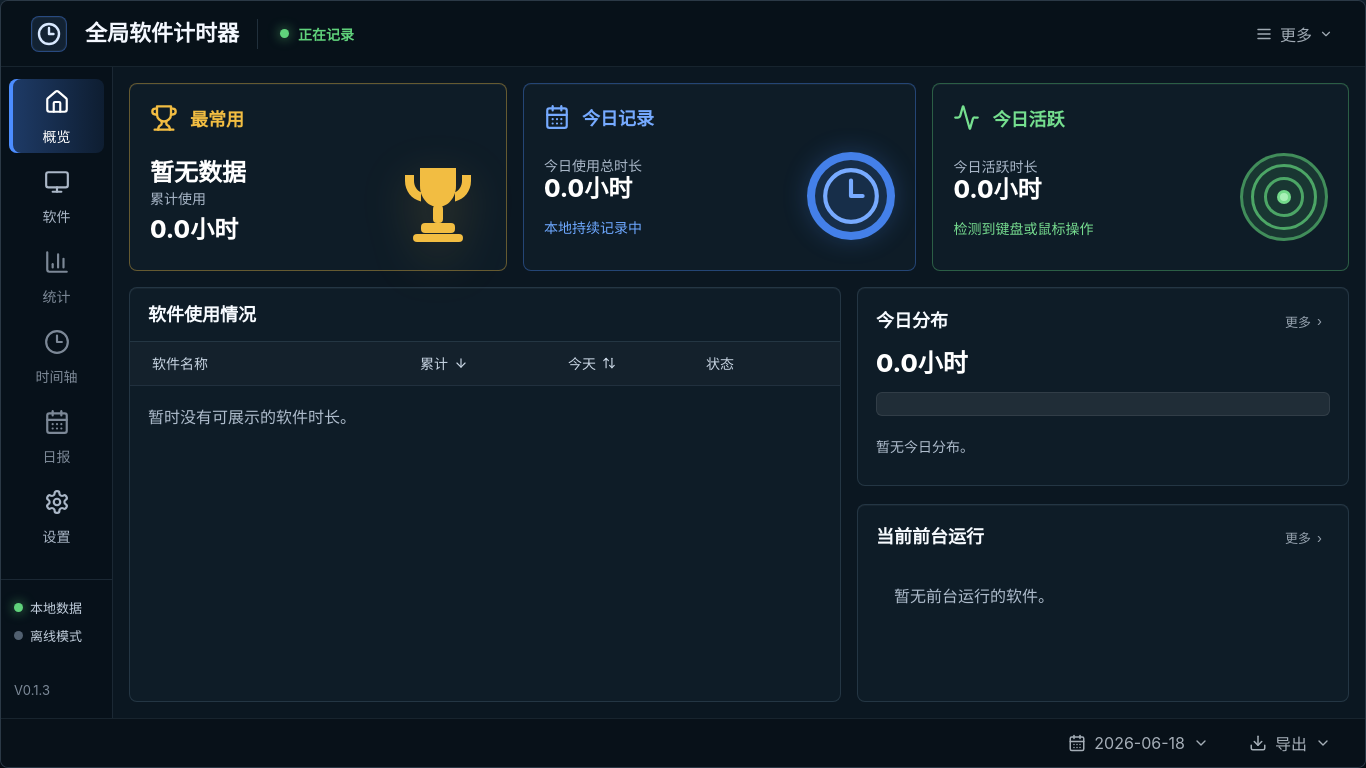
Test: App › shows list-load warning when remove succeeds but refresh fails
Click the button "软件" at (56, 196), box [9, 159, 104, 233]
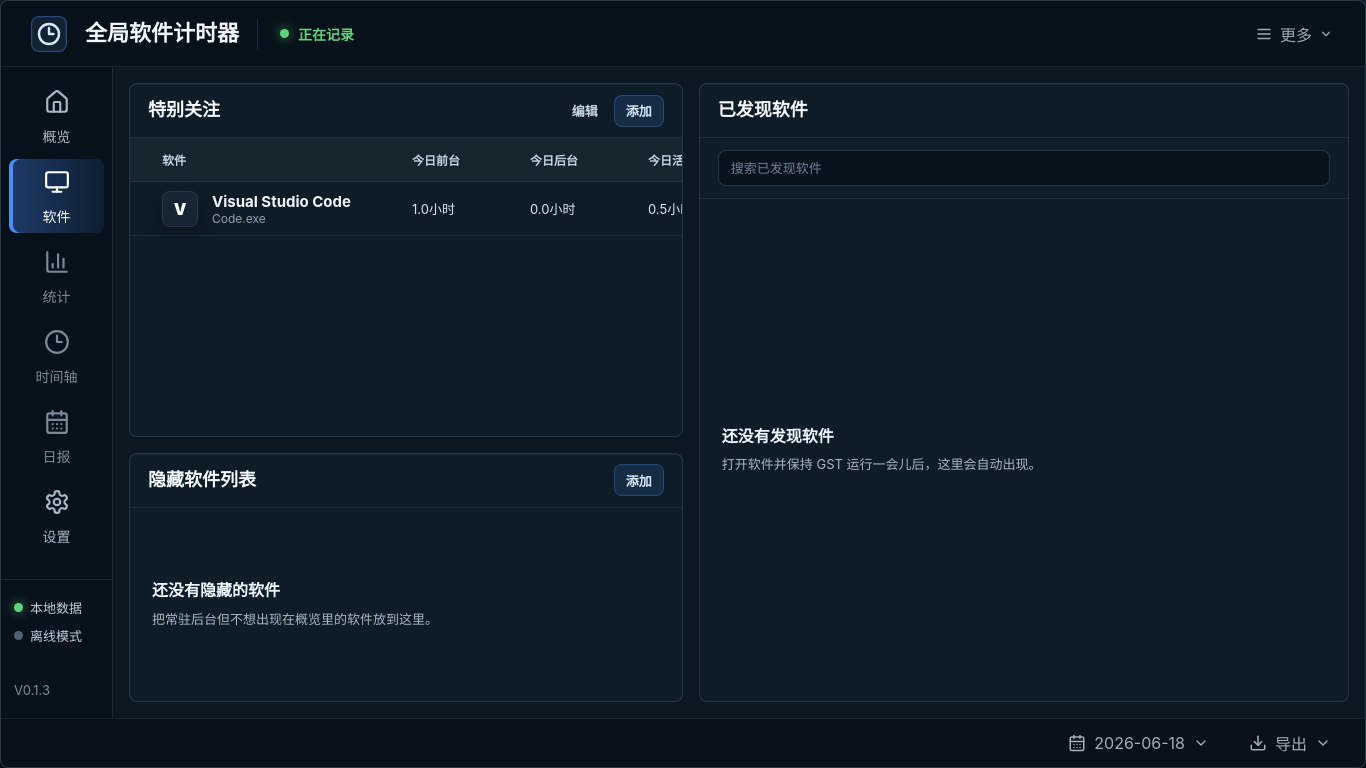
Click the button with aria-label "编辑特别关注" at (585, 110), box [564, 94, 606, 126]
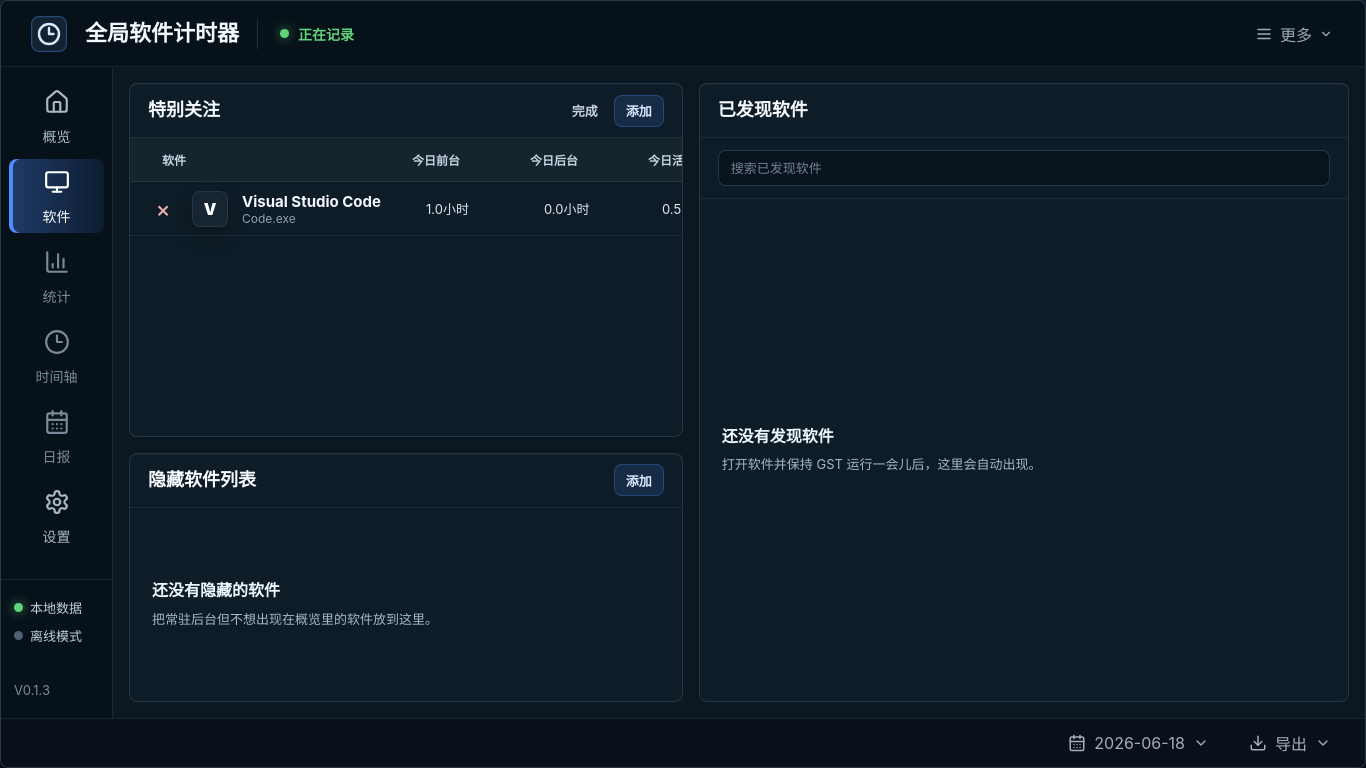
Click the button named "移出 Visual Studio Code" at (163, 208), box [151, 196, 175, 220]
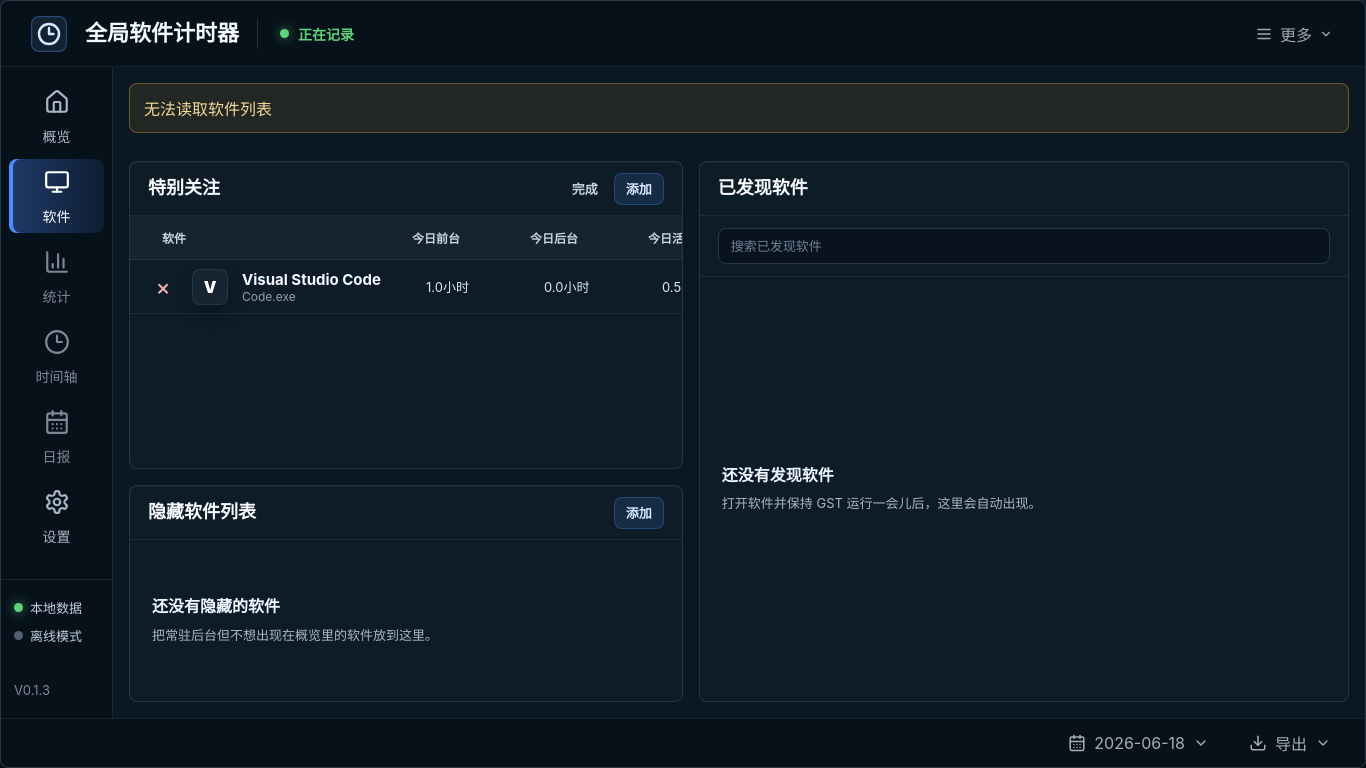
Now the text "Visual Studio Code" is shown, box [242, 270, 381, 288]
Now the text "无法读取软件列表" is shown, box [129, 83, 1349, 133]
